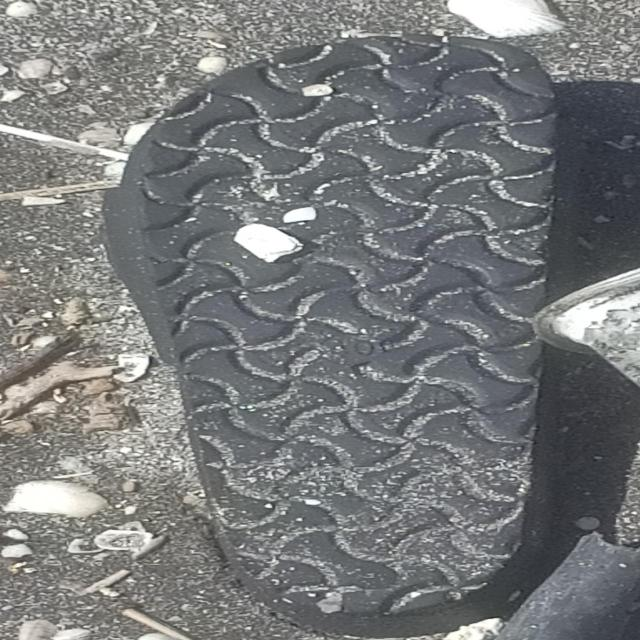litter: (132, 29, 568, 640)
